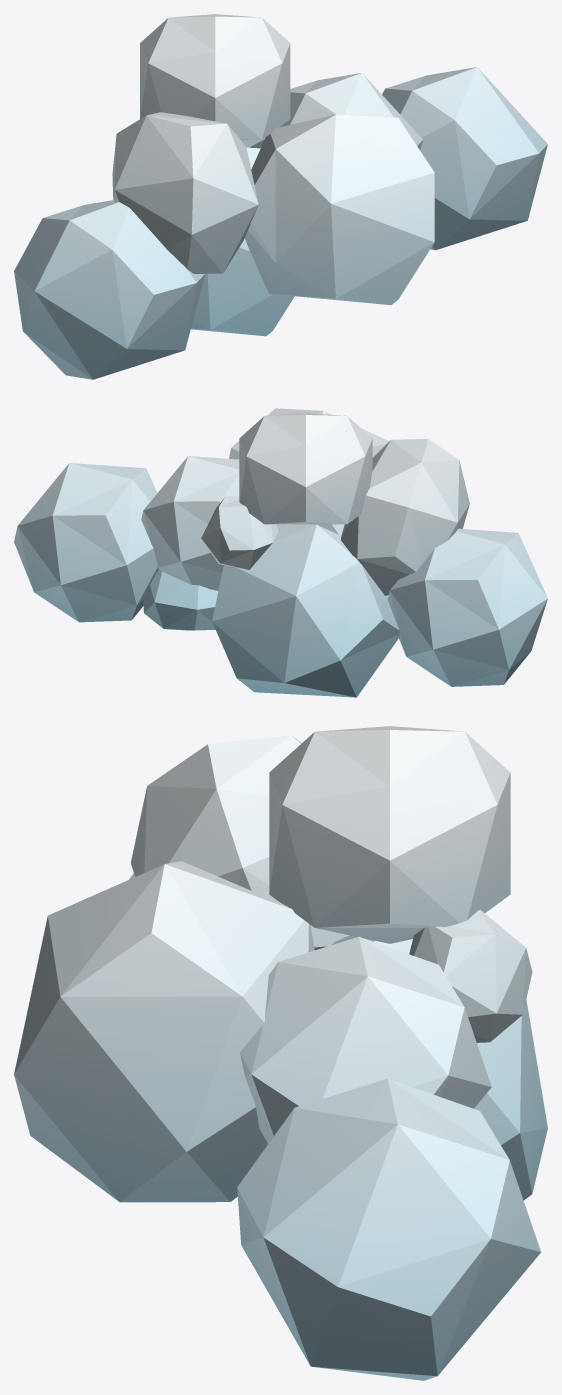
Rendered from Cloud_01.FBX.
3 renders of one model, top to bottom at view 1: azimuth 30°, elevation 25°; view 2: azimuth 150°, elevation 25°; view 3: azimuth 270°, elevation 25°, orthographic. The views are drawn at different scales.
Visible parts, largest first — view 1: Cloud_001; view 2: Cloud_001; view 3: Cloud_001.
Boxes of the visible parts, left/top/right/bottom form: Cloud_001: left=14, top=14, right=547, bottom=379; Cloud_001: left=14, top=408, right=547, bottom=697; Cloud_001: left=14, top=726, right=547, bottom=1380.
Size of the model in its own units: 11.17 by 6.18 by 5.92.
